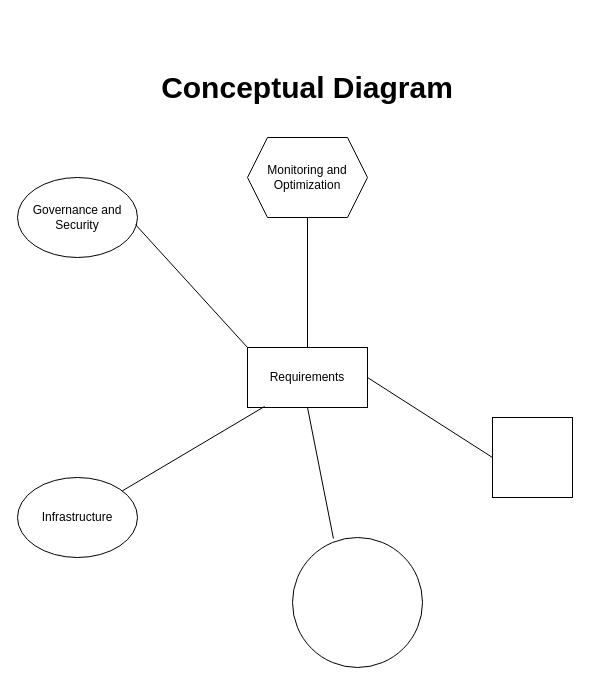
The diagram is 590 pixels wide and 685 high, and some of its shapes have lost their labels. The shapes that lost their labels are listed below. From the top down, each one's centre as x and y in pixels, then its label:
[532,457]: Model Selection
[357,602]: Data Strategy
